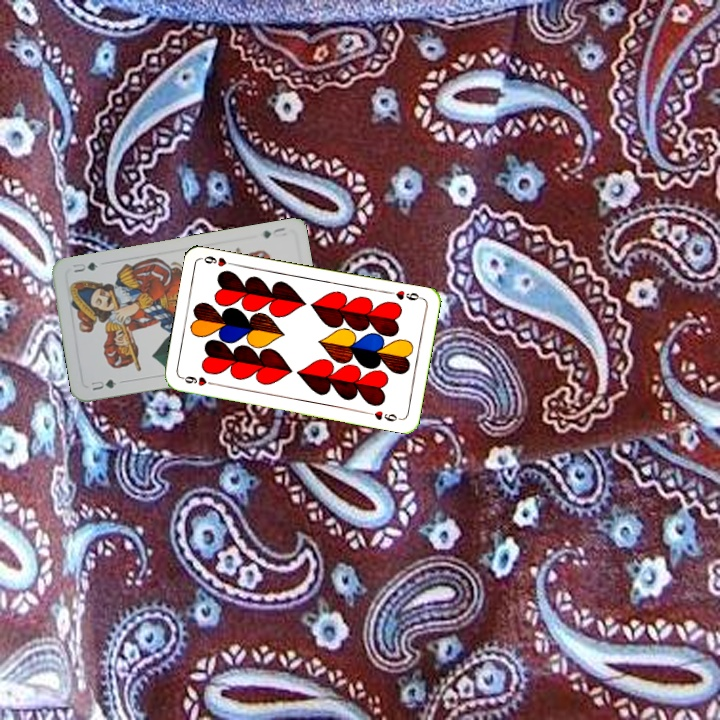GU: (87, 375, 119, 393), (259, 223, 289, 241)
H9: (385, 286, 425, 303), (178, 372, 218, 389)
